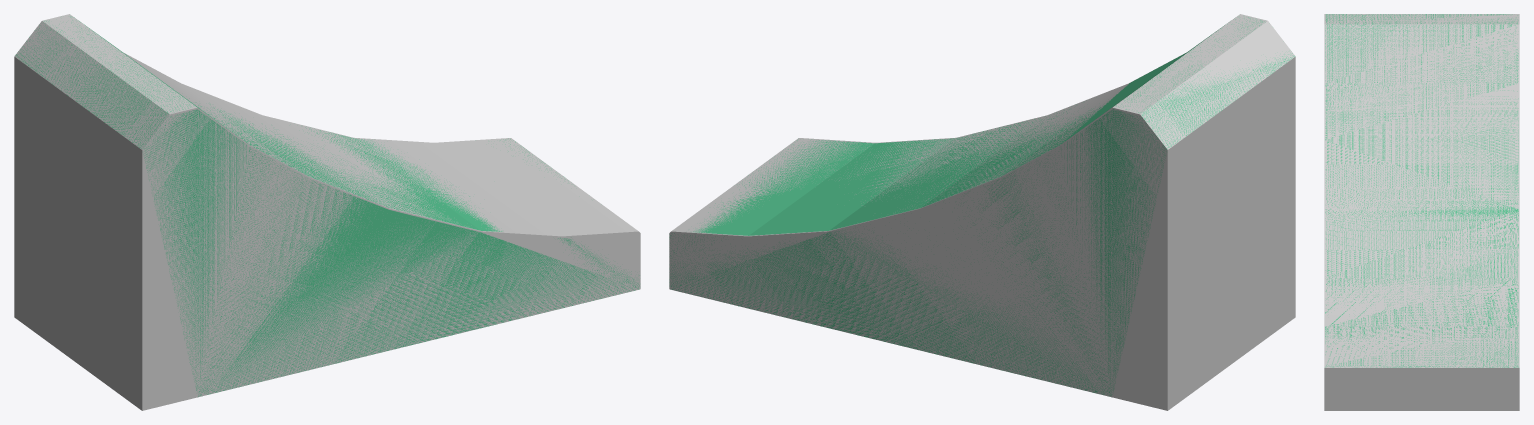
The model's file is gm_ramp_01.dae.
3 renders of one model, left to right at view 1: azimuth 30°, elevation 25°; view 2: azimuth 150°, elevation 25°; view 3: azimuth 270°, elevation 25°, orthographic. The views are drawn at different scales.
Parts seen in each view (by area): view 1: gm_ramp_a100, Colmesh-1; view 2: gm_ramp_a100, Colmesh-1; view 3: gm_ramp_a100, Colmesh-1.
Part boxes in pixels (x1=…): gm_ramp_a100: x1=14, y1=14, x2=640, y2=410; Colmesh-1: x1=15, y1=16, x2=639, y2=396; gm_ramp_a100: x1=669, y1=14, x2=1295, y2=410; Colmesh-1: x1=669, y1=17, x2=1295, y2=397; gm_ramp_a100: x1=1324, y1=14, x2=1519, y2=410; Colmesh-1: x1=1325, y1=14, x2=1518, y2=367.
Bounding box in the file's own units: 9 × 4 × 5.
